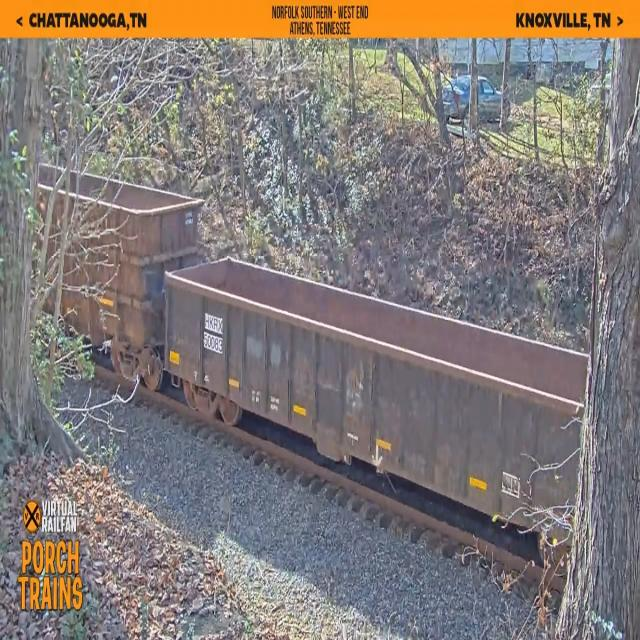gondola: (158, 239, 590, 569), (40, 152, 207, 404)
